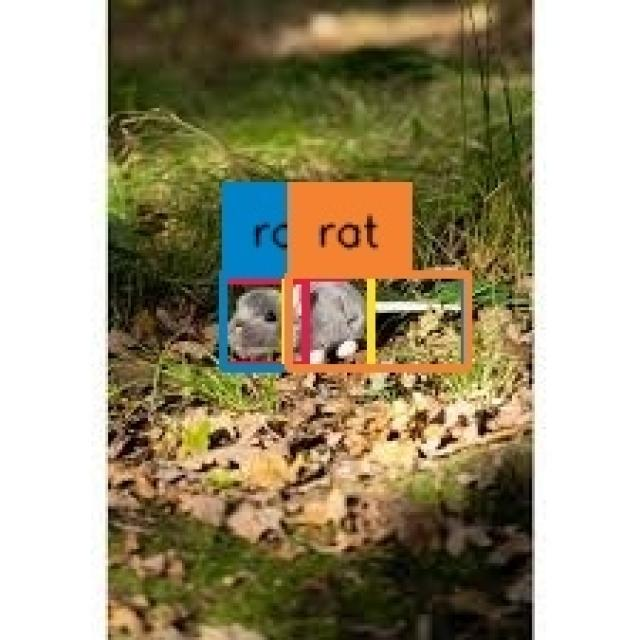rat: (224, 273, 466, 370), (288, 274, 467, 368), (225, 274, 372, 368), (287, 274, 373, 368), (223, 282, 306, 364)
